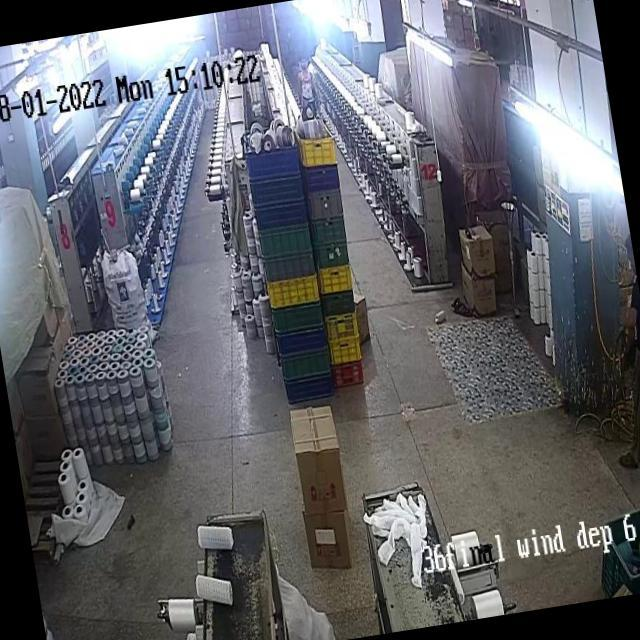person: (597, 242, 640, 466), (294, 50, 318, 109)
